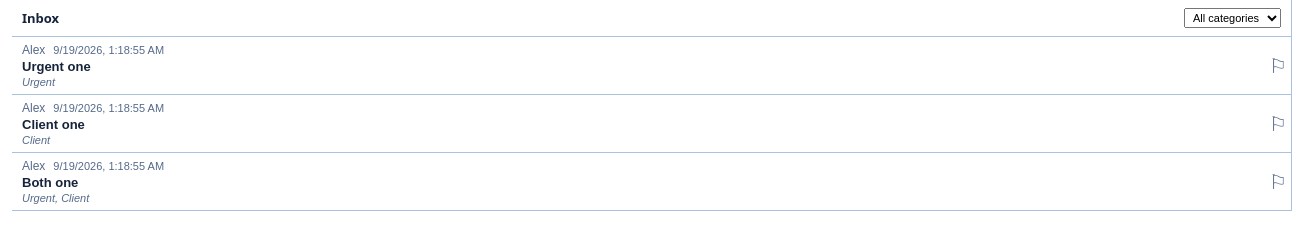
it: MessageListPane › shows a category filter once messages have categories, and filters the list by the chosen one
Check: the text "Urgent one" is shown, box top-left (22, 59), bottom-right (91, 74)
Check: the text "Client one" is shown, box top-left (22, 117), bottom-right (85, 132)
Select "Urgent" in the dropdown named "Filter by category" at {"x": 1232, "y": 18}, box top-left (1184, 8), bottom-right (1281, 28)
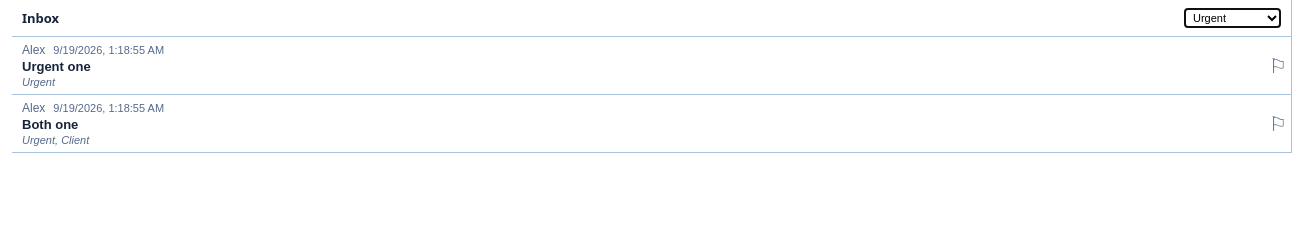
Check: the text "Urgent one" is shown, box top-left (22, 59), bottom-right (91, 74)
Check: the button "Client one" is gone
Select "All categories" in the dropdown named "Filter by category" at {"x": 1232, "y": 18}, box top-left (1184, 8), bottom-right (1281, 28)
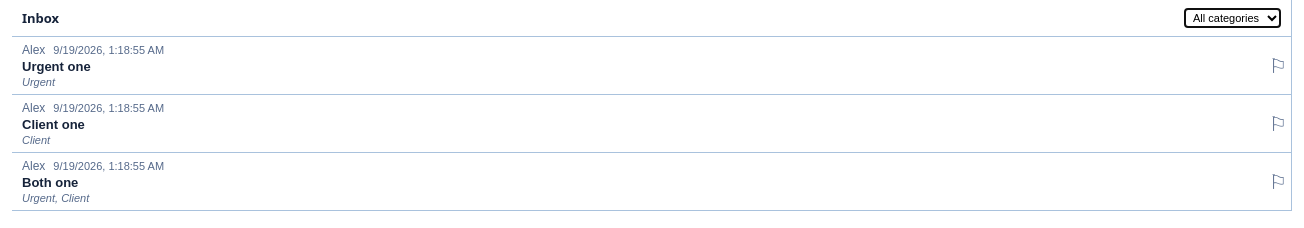
Check: the text "Client one" is shown, box top-left (22, 117), bottom-right (85, 132)
